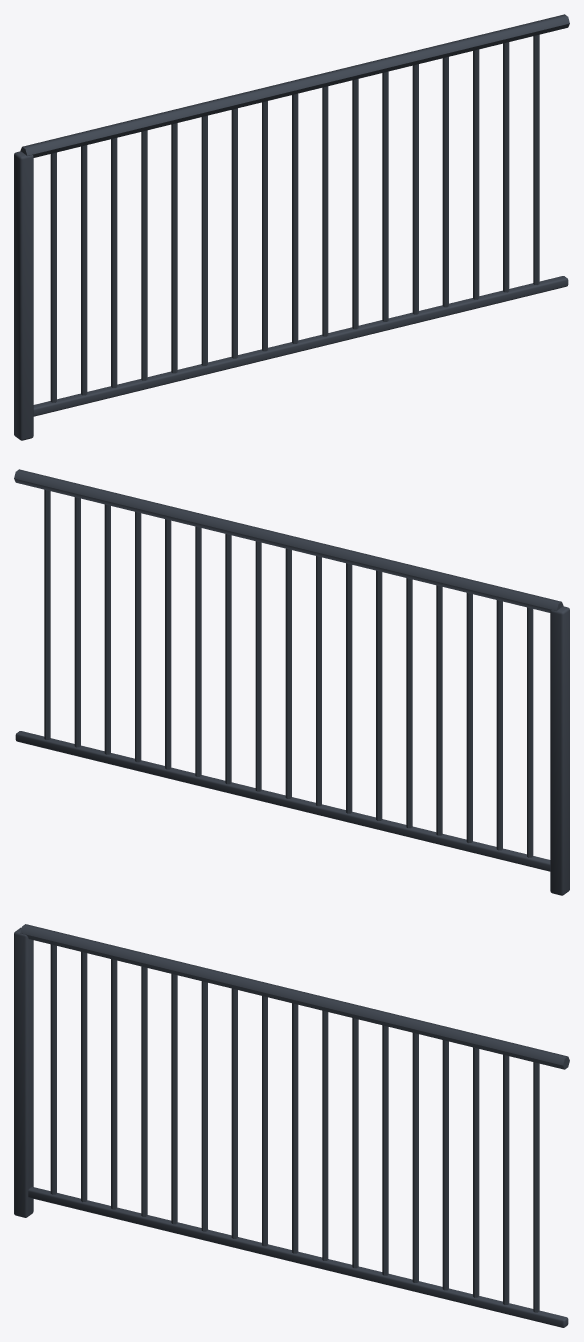
The model's file is guarda_corpo_metal_2m.glb.
3 views of the same model, one above another, from view 1: azimuth 30°, elevation 25°; view 2: azimuth 150°, elevation 25°; view 3: azimuth 330°, elevation 25° (orthographic).
Parts seen in each view (by area): view 1: guarda_corpo_metal_2m; view 2: guarda_corpo_metal_2m; view 3: guarda_corpo_metal_2m.
Part boxes in pixels (x1,y1,x2,y2): guarda_corpo_metal_2m: [14, 14, 569, 440]; guarda_corpo_metal_2m: [14, 469, 569, 895]; guarda_corpo_metal_2m: [14, 924, 569, 1327].
Bounding box in the file's own units: 2.03 × 1.02 × 0.05.
Materials: 1 (1 with a texture image).
